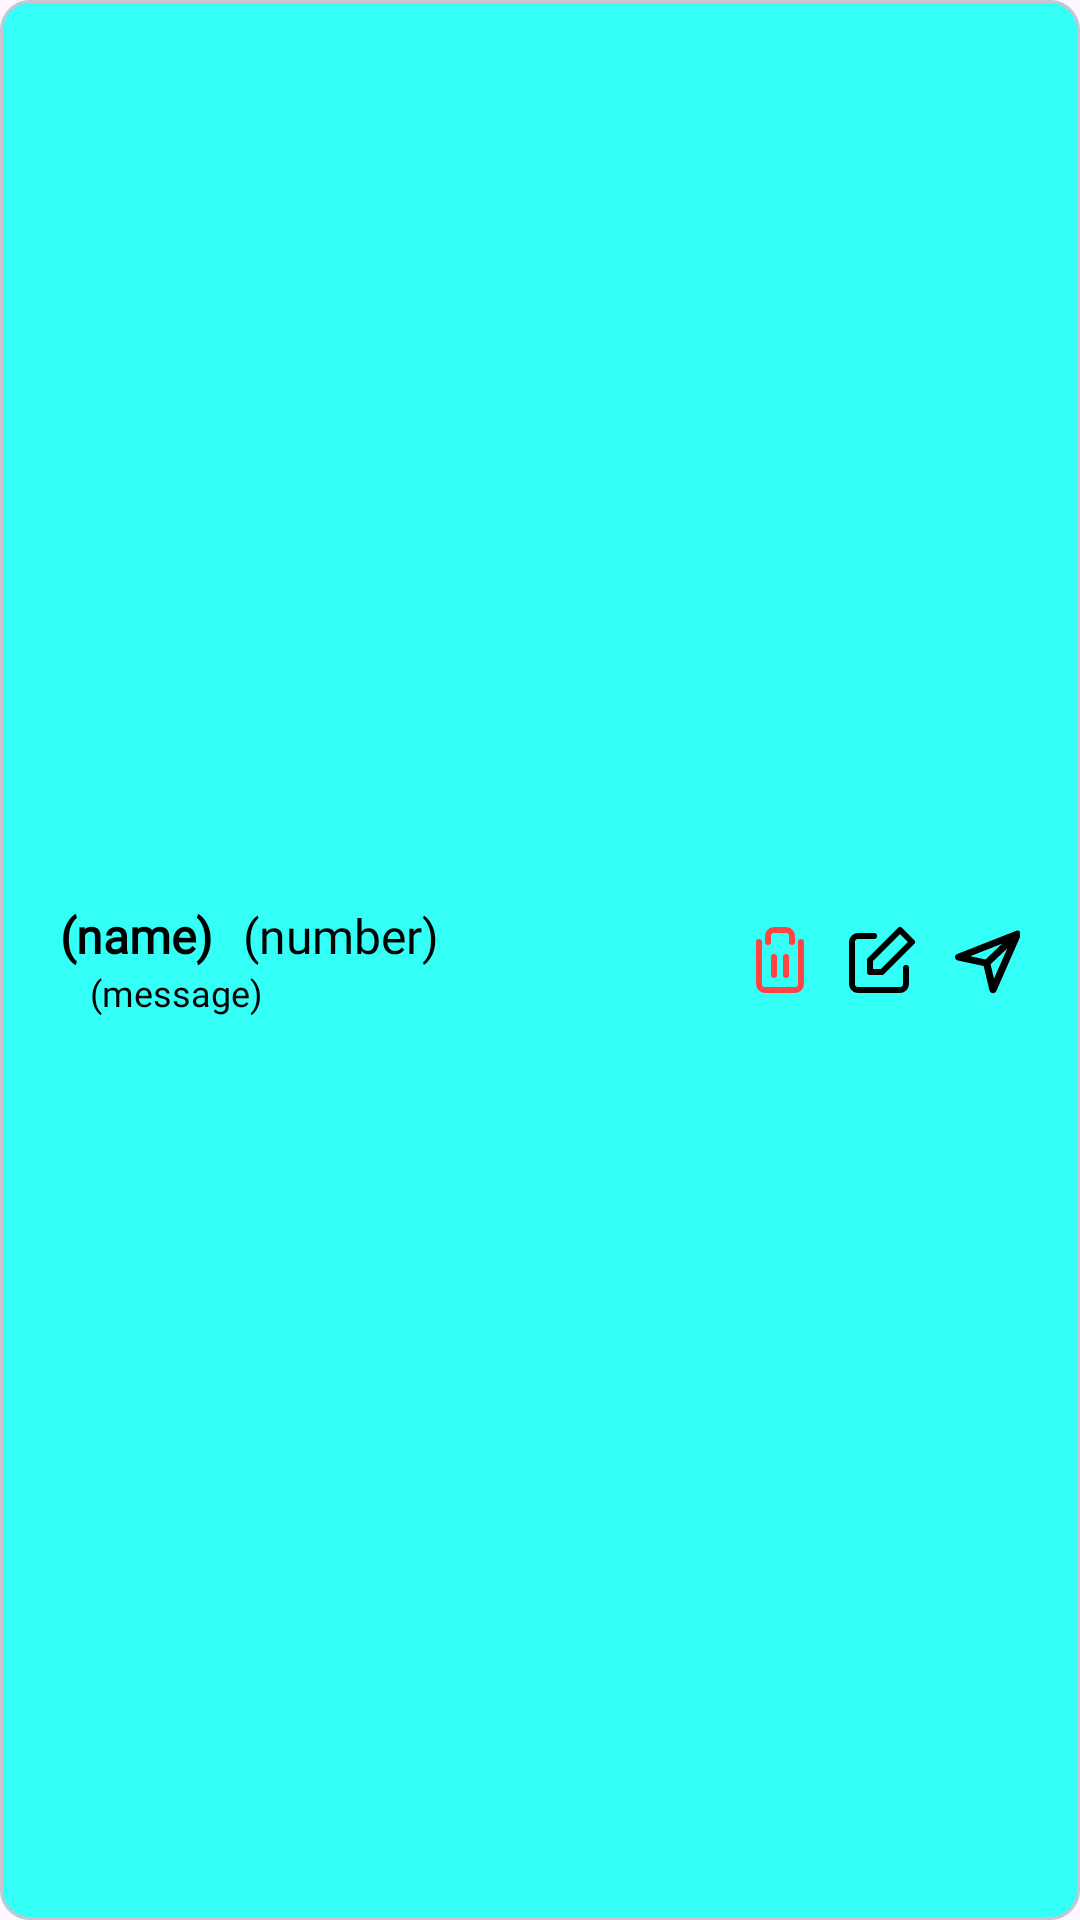

Locate icon controls on the screen. Image size 1080 x 1920, boxes as (x1, y1, x2, y2).
edit: (849, 927, 915, 993)
send: (955, 930, 1020, 994)
trash: (756, 927, 804, 993)
